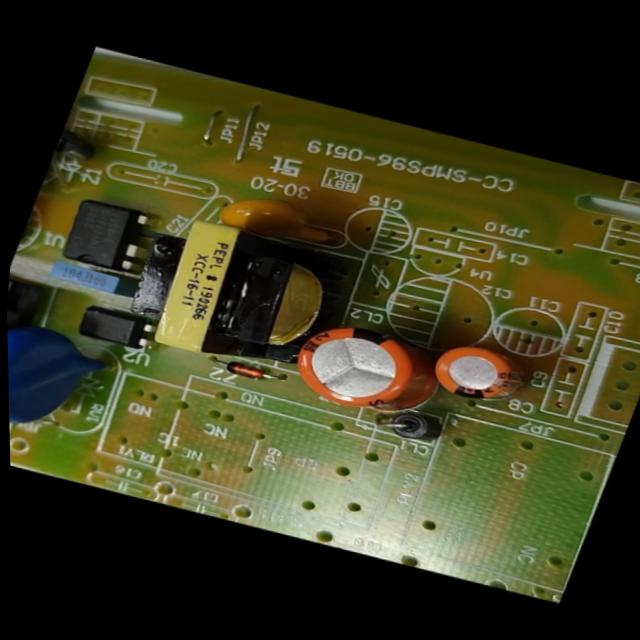Cap1: (271, 302, 461, 434)
Cap2: (416, 327, 551, 422)
MOSFET: (47, 185, 170, 285)
Mov: (7, 304, 147, 455)
Transformer: (135, 201, 389, 398), (6, 275, 61, 371)
